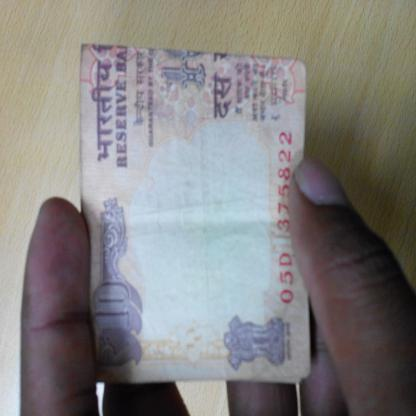Old10Front: (80, 44, 311, 384)
